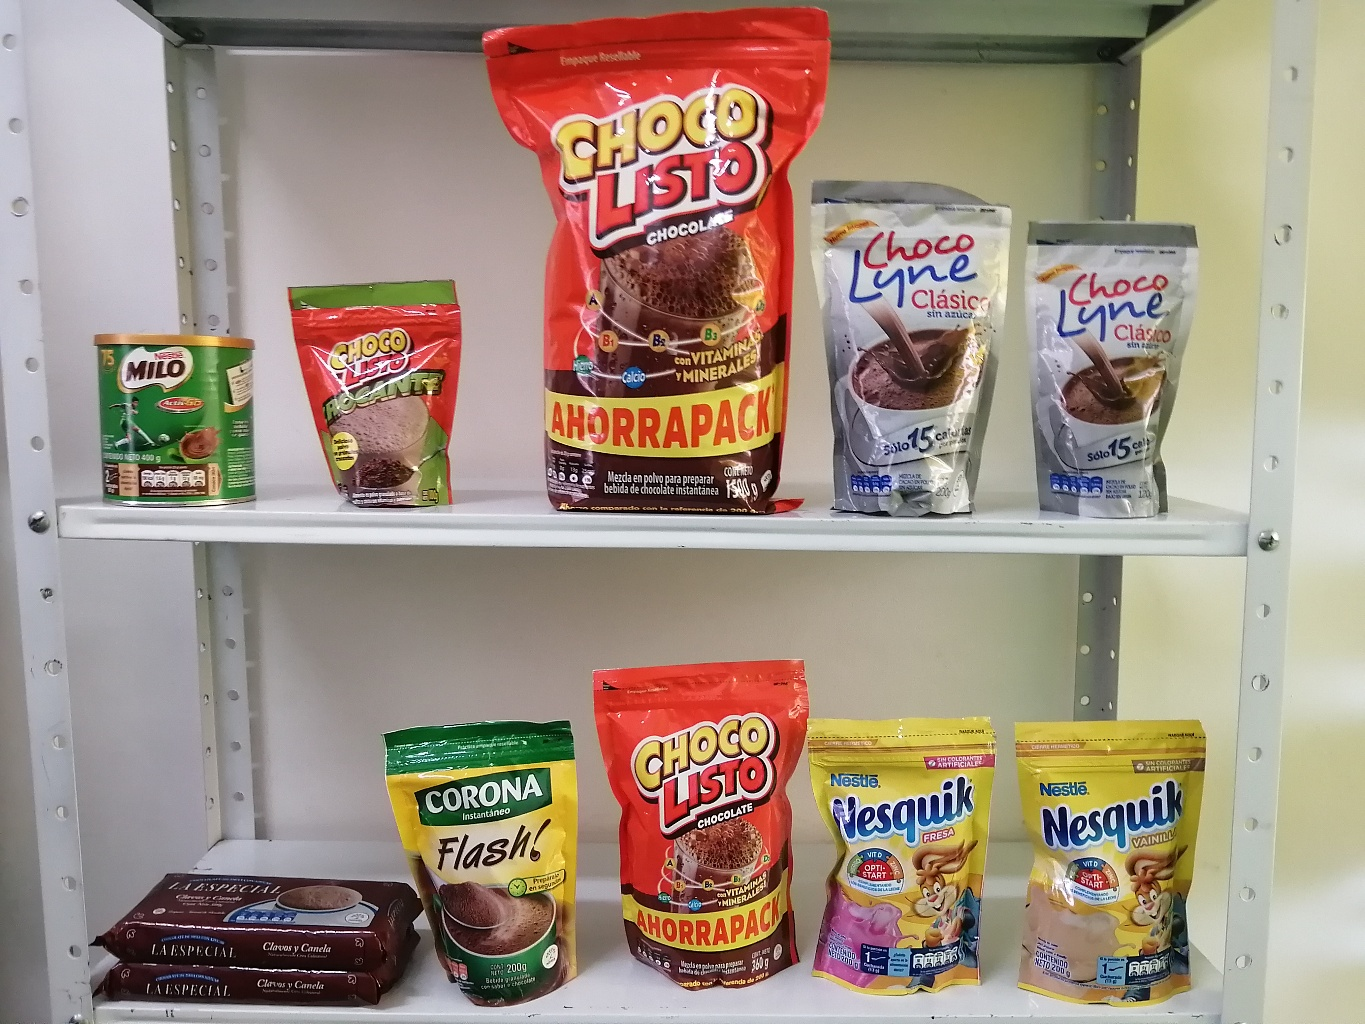COL0170102DYP10000: (269, 276, 485, 513)
COL0170103DYP1,500: (482, 16, 820, 522)
COL0170103DYP36000: (580, 657, 812, 987)
COL0170203LAT40000: (85, 327, 280, 513)
COL0170305DYP20000: (815, 714, 1010, 998)
COL0170306DYP20000: (1012, 712, 1221, 1010)
